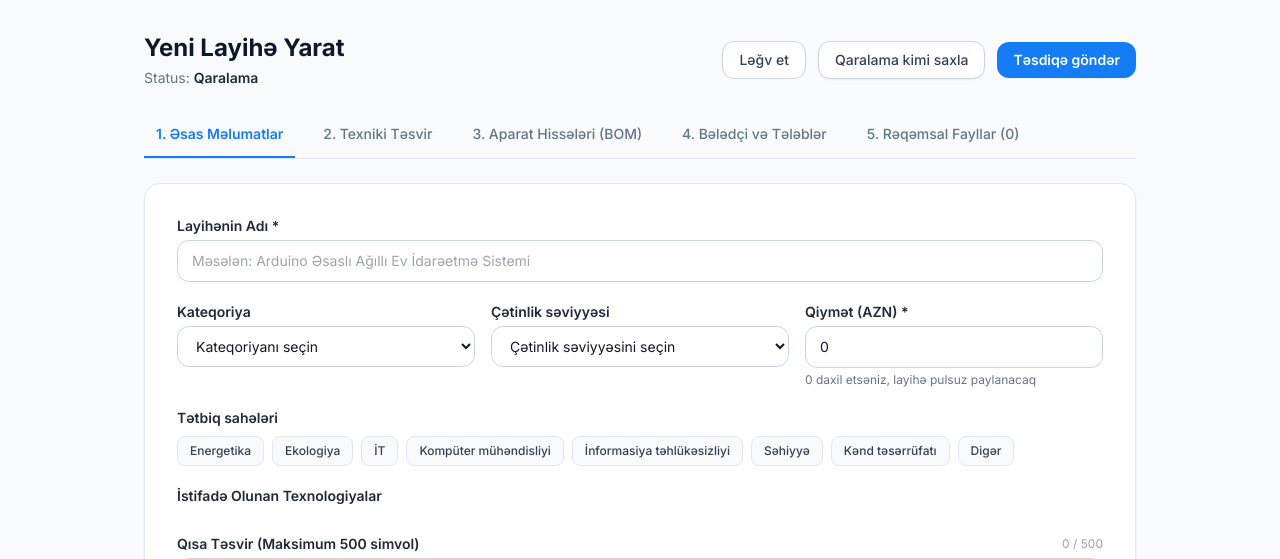
ProjectEditorPage Component › saves project draft successfully on button click
In the field with placeholder "Məsələn: Arduino Əsaslı Ağıllı Ev İdarəetmə Sistemi": point(640, 261) x1=177 y1=240 x2=1103 y2=282, type "Avtomatik Suvarma Sistemi"
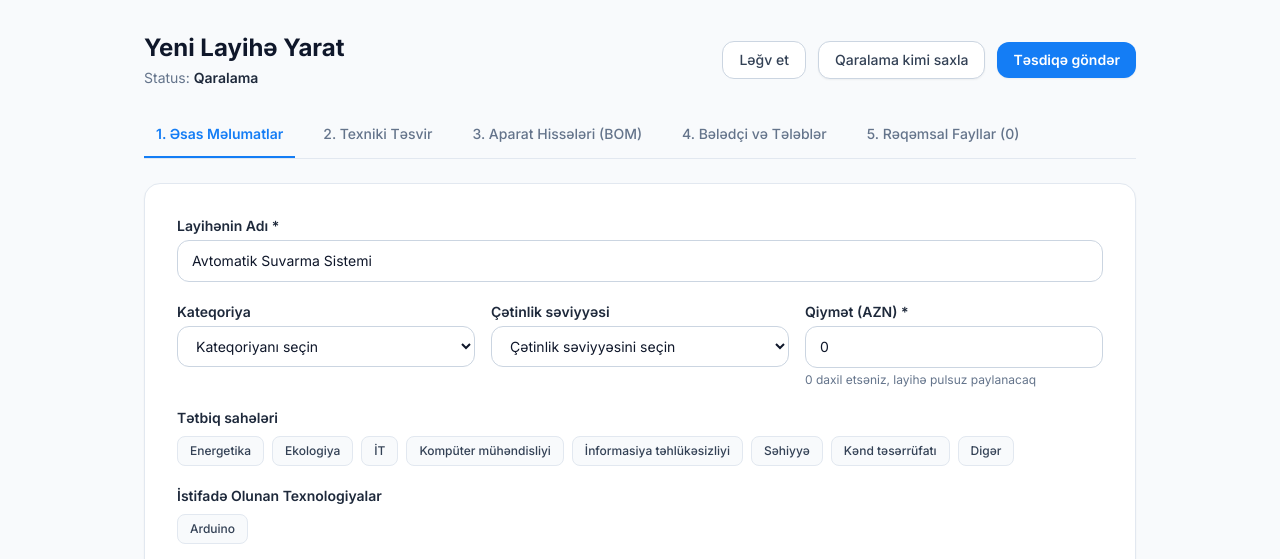
Click the button "Qaralama kimi saxla": point(902, 60) x1=818 y1=41 x2=985 y2=79
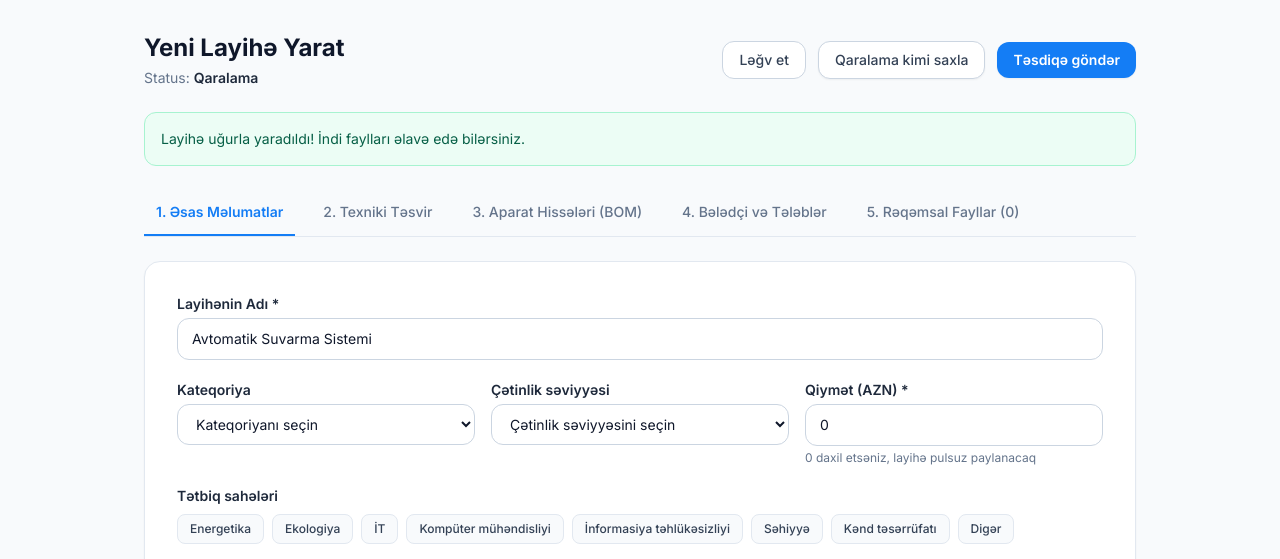
Now the text "Layihə uğurla yaradıldı! İndi faylları əlavə edə bilərsiniz." is shown, box x1=144 y1=112 x2=1136 y2=166
